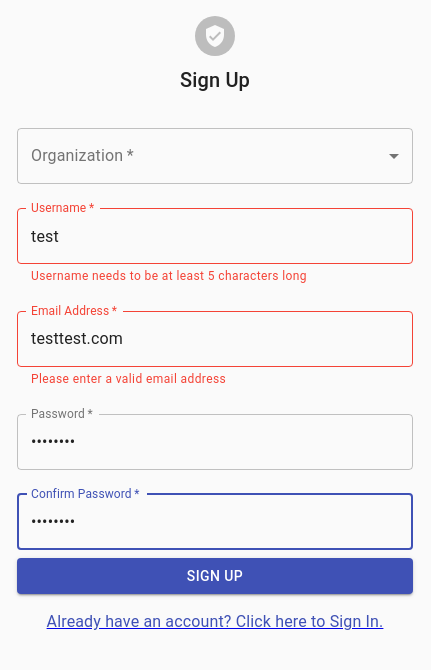
Test case: Login Process › check Password2 invalid
Type "password" into the password field labelled "Password *" at [215, 442], box [17,414,413,470]
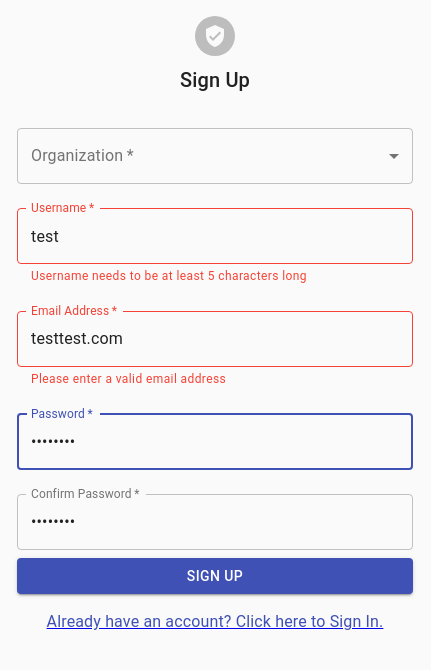
Type "password1" into the password field labelled "Confirm Password *" at [215, 522], box [17,494,413,550]
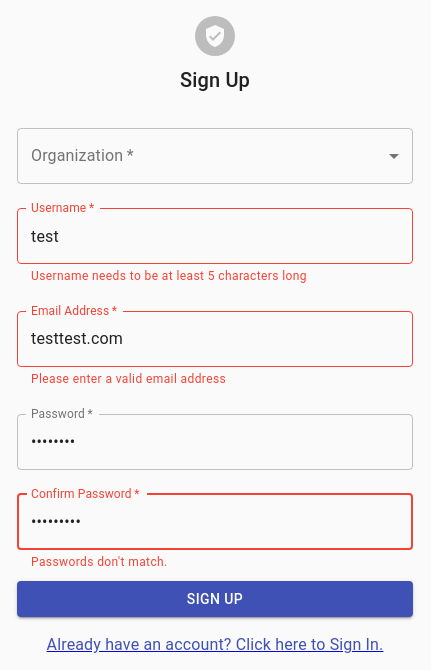
Check: the text "Passwords don't match." is shown, box [31,555,168,569]
